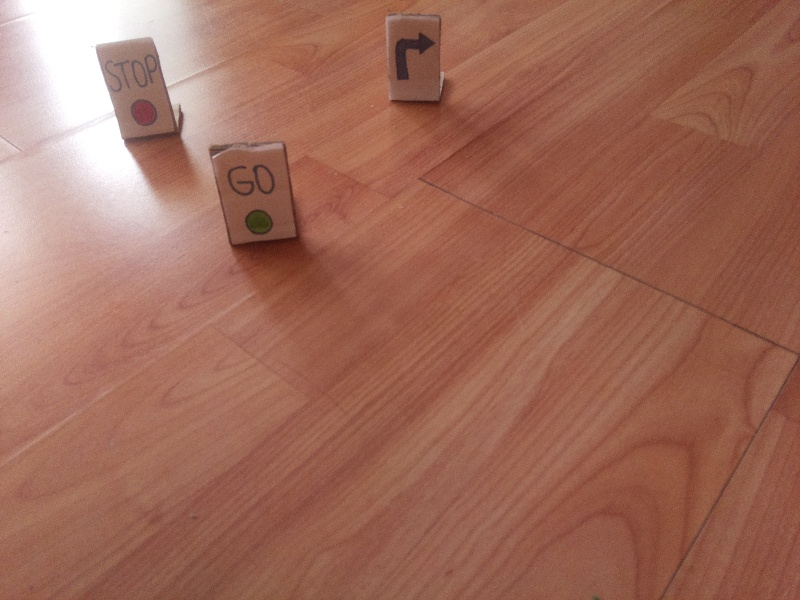go: (225, 159, 284, 234)
stop: (104, 48, 164, 129)
turn right: (394, 31, 436, 86)
